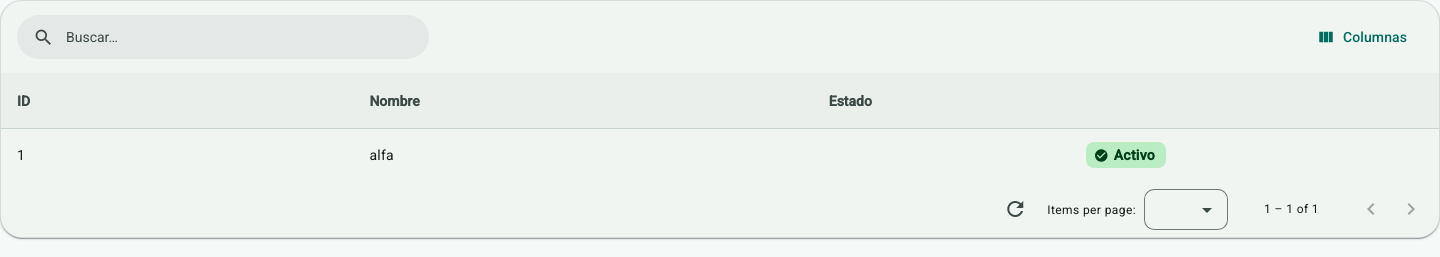
Test: TbiTableComponent › oculta una columna opcional desde el menú "Columnas"
Click the button with class "tbi-table__columns-btn".
click(1364, 37)  # box [1305,17,1423,57]
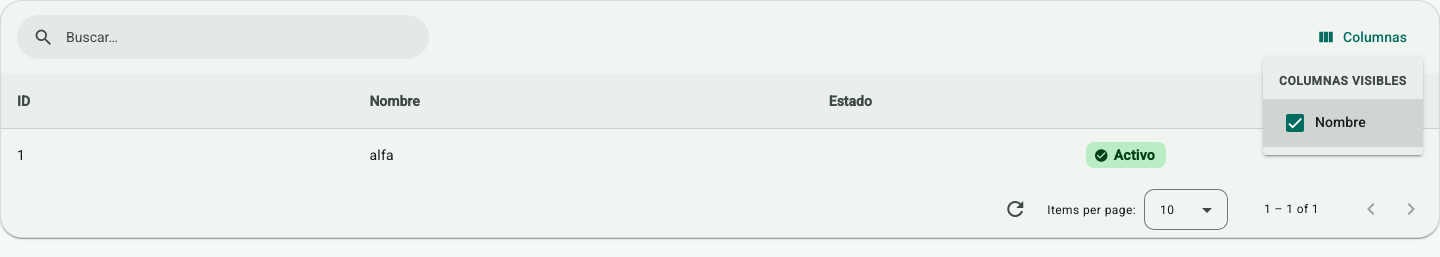
Click the menu item "Nombre".
click(1343, 123)  # box [1263,99,1423,147]
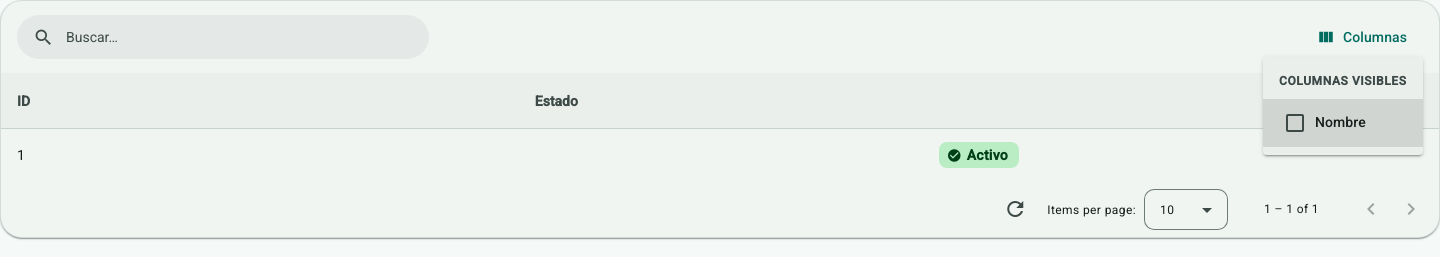
expect the text "alfa" is gone: met
